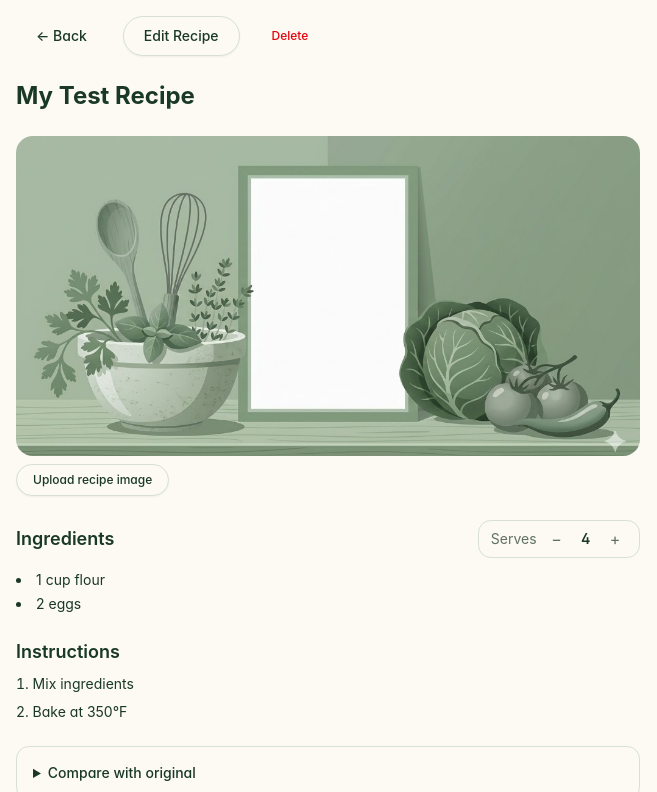
it: RecipeDetailPage › shows confirmation UI when Delete is clicked
This screenshot has width=657, height=792.
Check: the heading "My Test Recipe" is shown, box [16,81,195,110]
Click the button "Delete": (290, 36) [256,20,324,52]
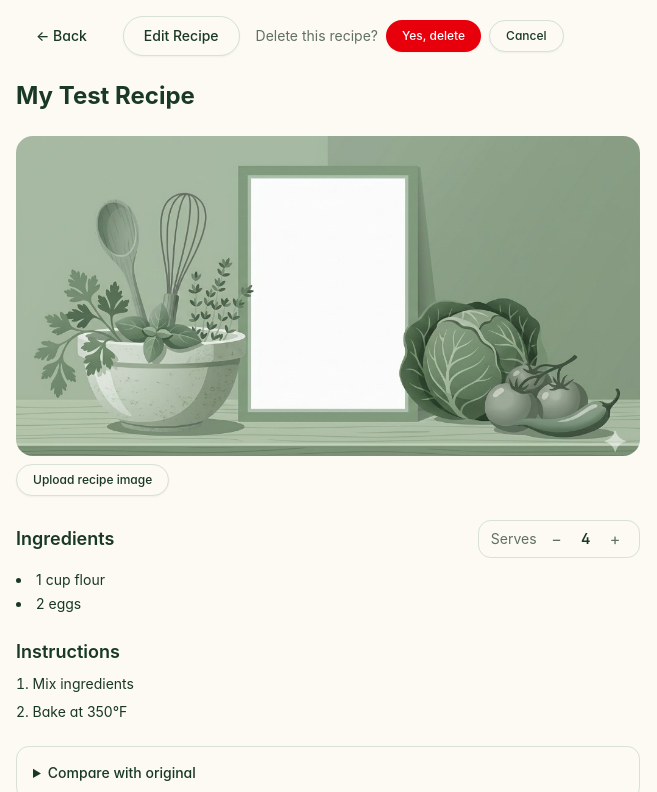
Check: the element named "confirm delete" is shown, box [256,20,564,52]
Check: the button "Yes, delete" is shown, box [386,20,481,52]
Check: the button "Cancel" is shown, box [489,20,564,52]
